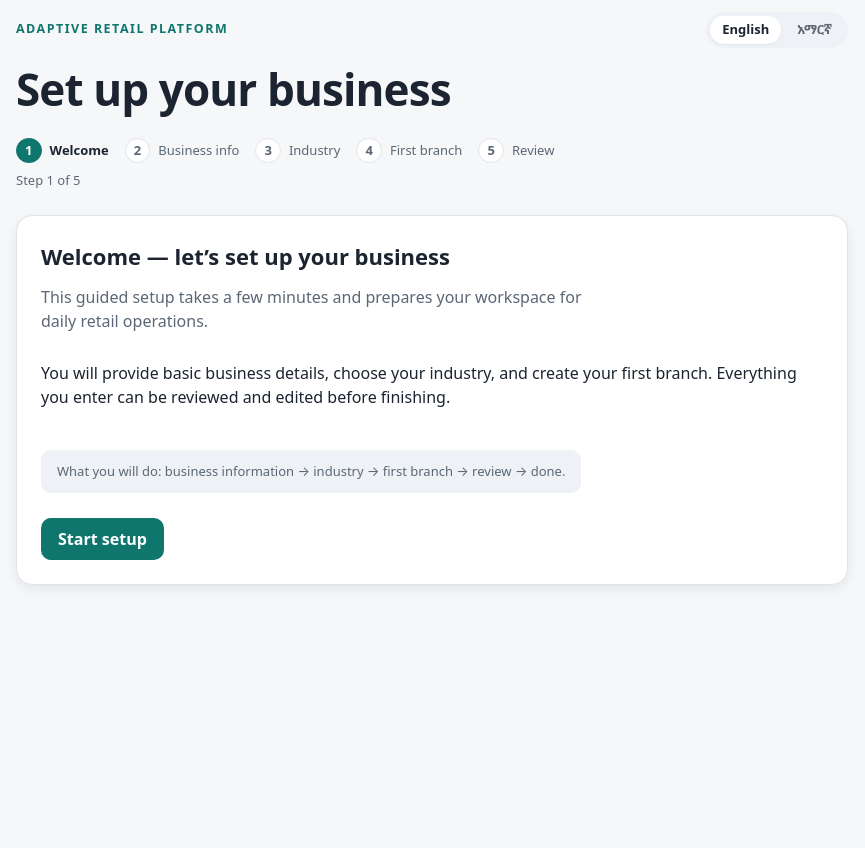
Test case: OnboardingPage › renders the flow in Amharic when the locale is switched
Step 1. Click the button "አማርኛ" → (815,30), box [785,16,844,44]
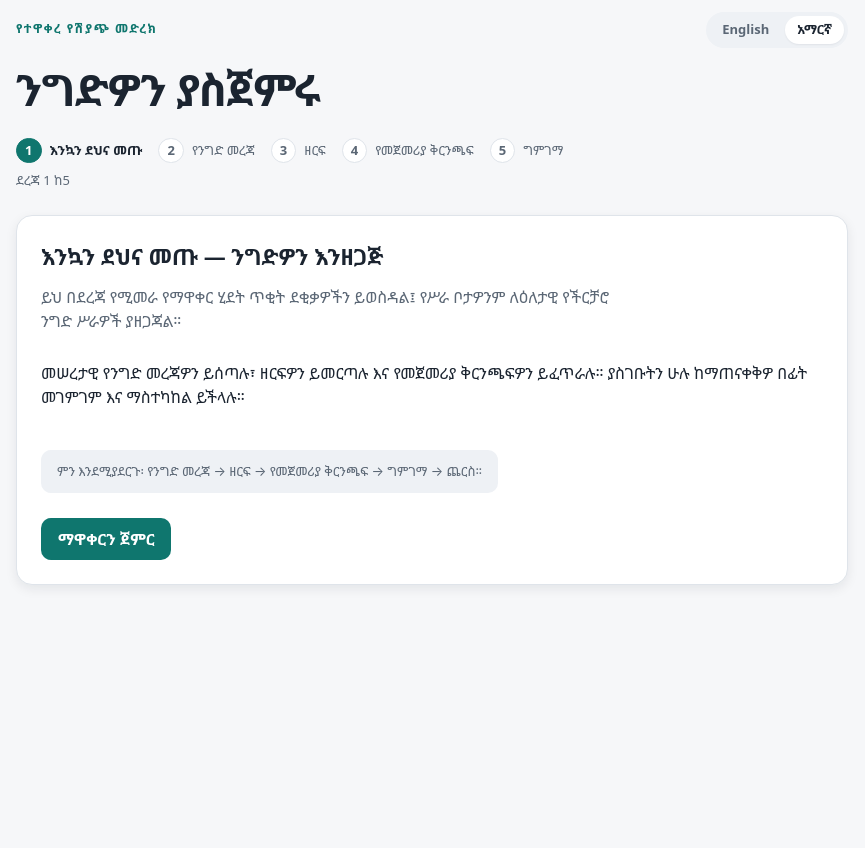
Check: the heading "ንግድዎን ያስጀምሩ" is shown, box [16,58,320,118]
Step 2. Click the button "ማዋቀርን ጀምር" → (106,539), box [41,518,172,560]
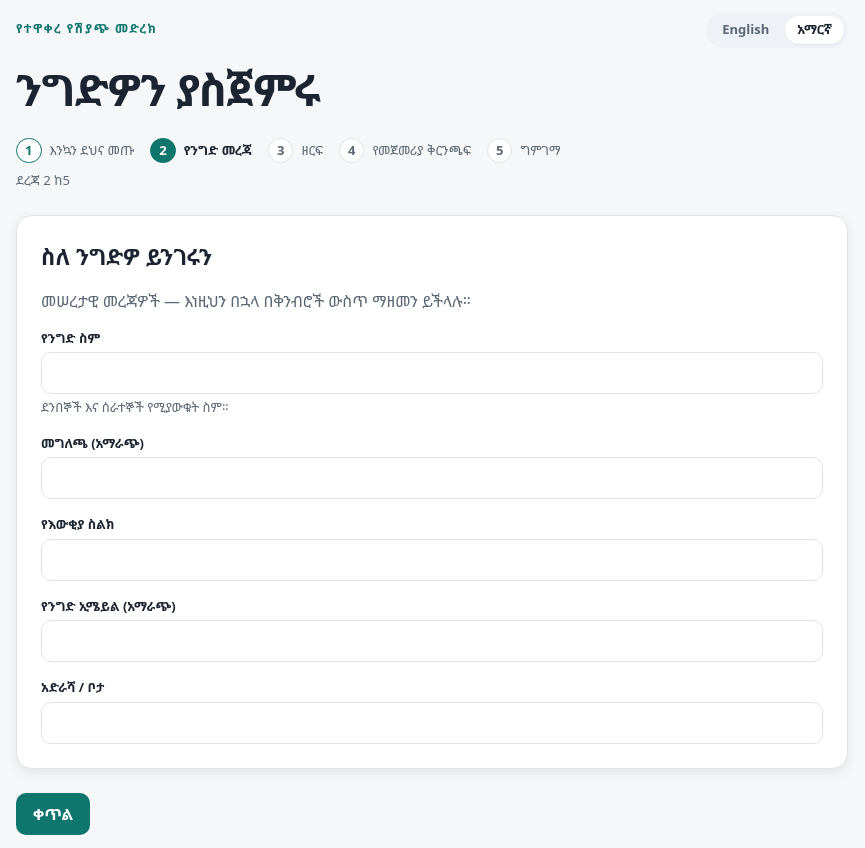
Check: the field labelled "የንግድ ስም" is shown, box [41,352,823,394]
